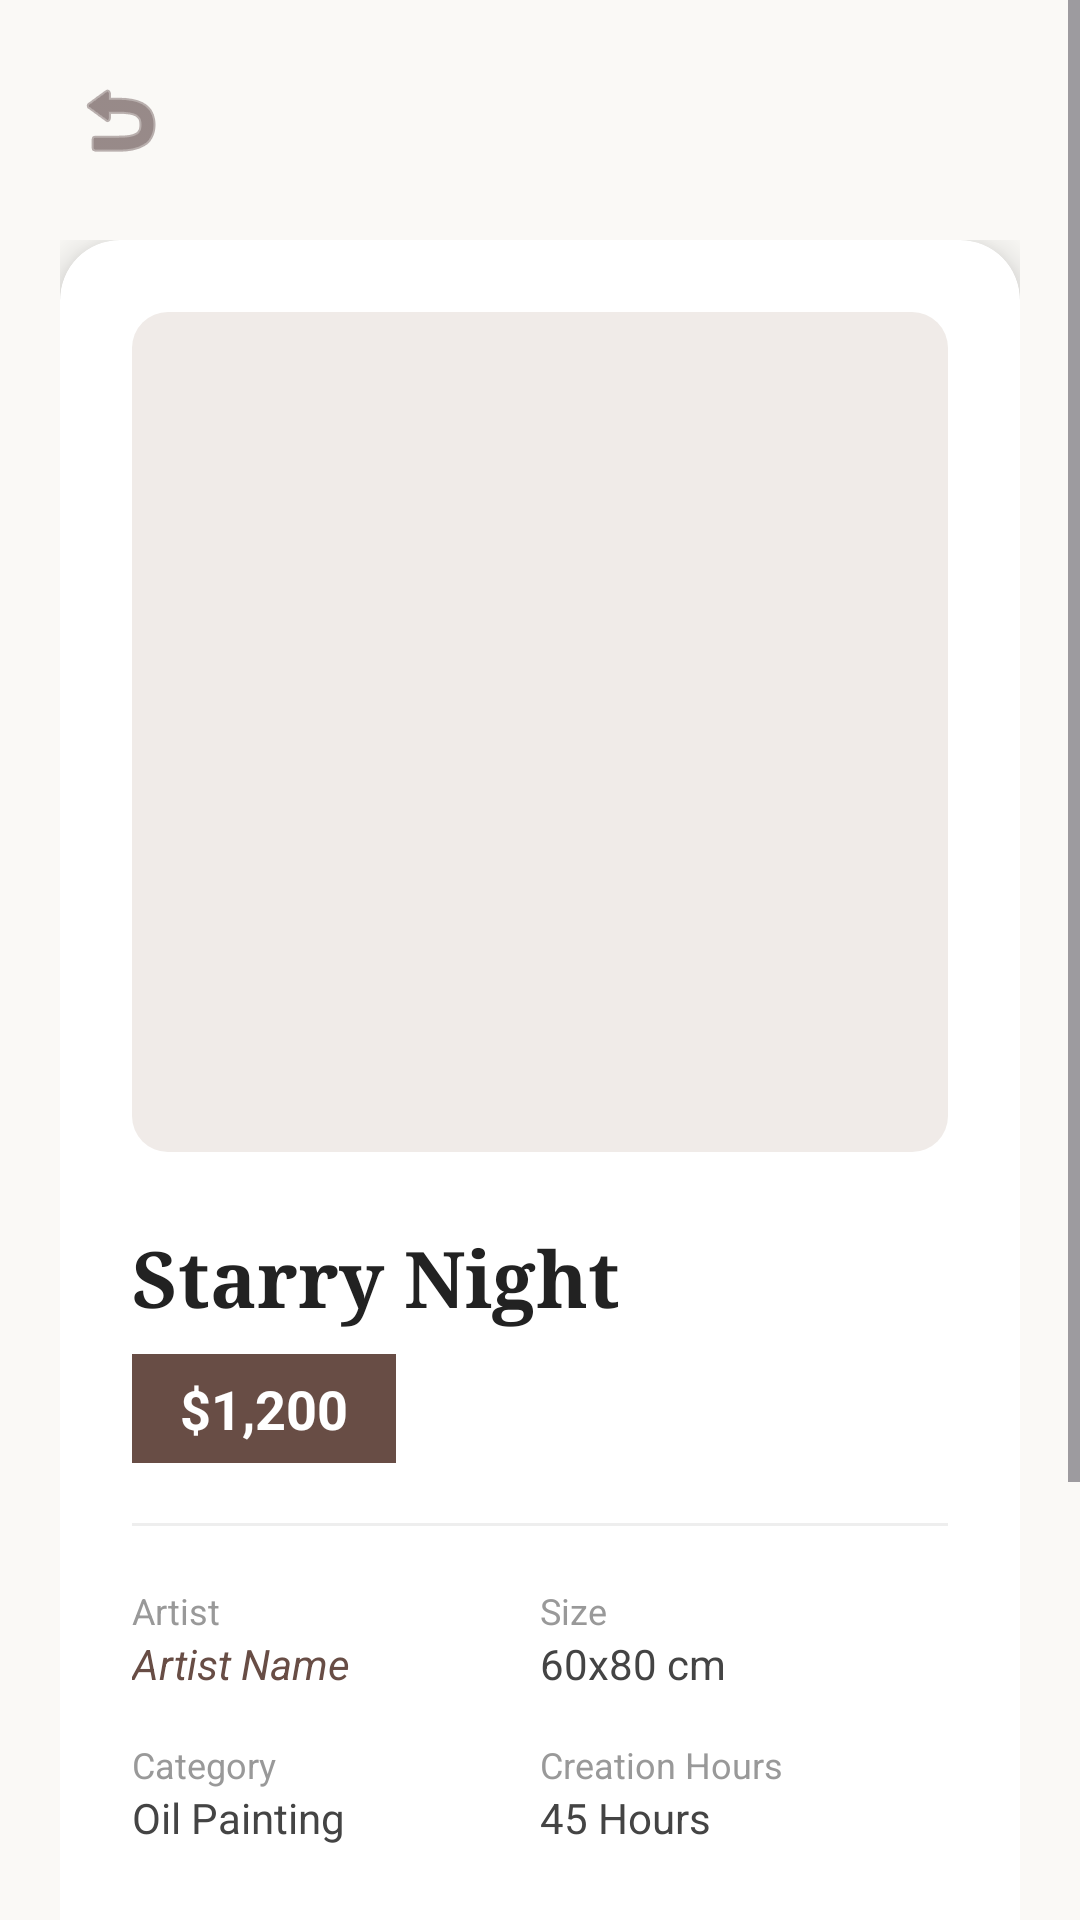

Icon bounding boxes for this 1080 × 1920 phone screenshot, format (x1, y1, x2, y2):
revert: (87, 89, 156, 152)
